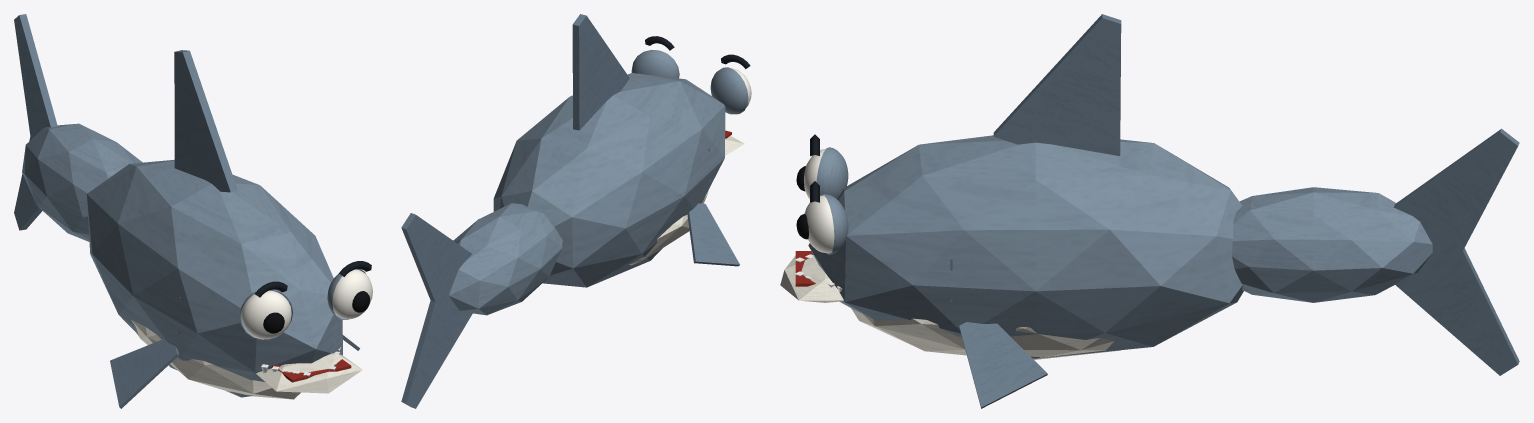
The model's file is shark.glb.
3 renders of one model, left to right at view 1: azimuth 30°, elevation 25°; view 2: azimuth 150°, elevation 25°; view 3: azimuth 270°, elevation 25°, orthographic. The views are drawn at different scales.
Visible parts, largest first — view 1: body, tail, head, tailFin, jaw, finR; view 2: body, tail, tailFin, head, finR; view 3: body, tail, tailFin, head, finL, jaw.
Boxes of the visible parts, x1,y1,x2,y2 form: body: [86, 50, 342, 399]; tail: [22, 123, 142, 241]; head: [239, 261, 372, 376]; tailFin: [14, 14, 57, 230]; jaw: [256, 353, 362, 393]; finR: [110, 339, 178, 408]; body: [493, 14, 725, 287]; tail: [449, 203, 562, 315]; tailFin: [401, 213, 472, 408]; head: [631, 36, 751, 114]; finR: [687, 203, 739, 266]; body: [808, 14, 1243, 359]; tail: [1232, 187, 1432, 302]; tailFin: [1393, 128, 1519, 375]; head: [795, 134, 848, 291]; finL: [959, 322, 1047, 408]; jaw: [780, 251, 843, 302].
Size of the model in its own units: 0.9728 by 1.2 by 2.28.
14 materials, 11 textured.
